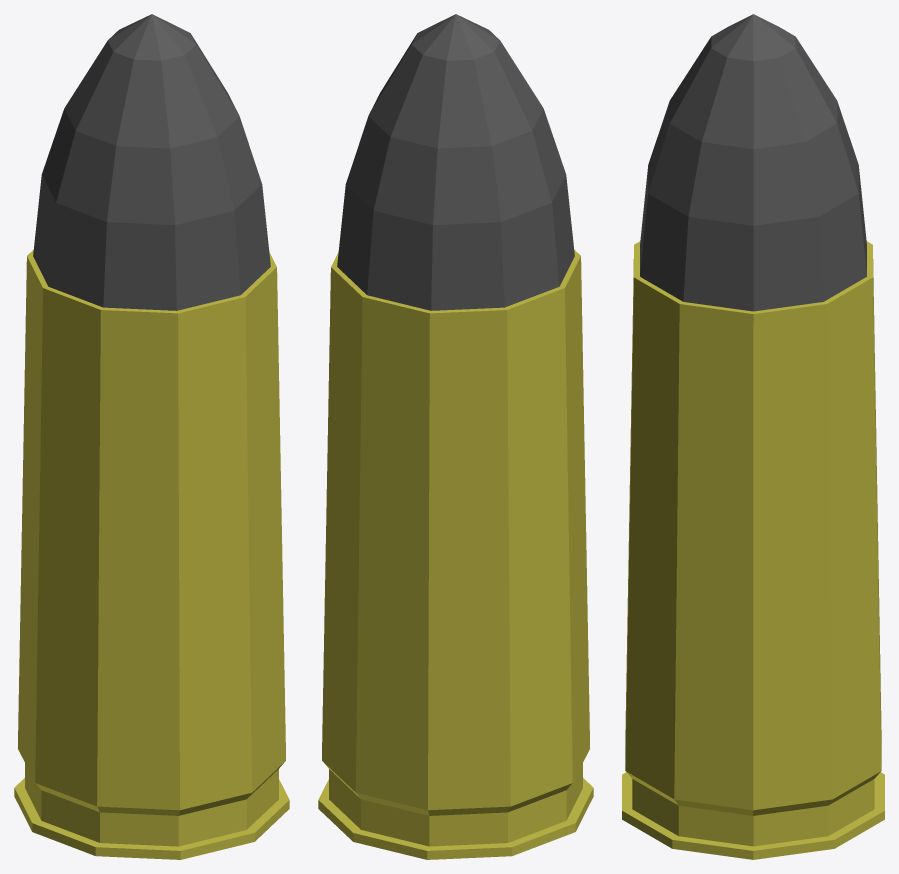
Rendered from Bullet.fbx.
3 views of the same model, side by side, from view 1: azimuth 30°, elevation 25°; view 2: azimuth 150°, elevation 25°; view 3: azimuth 270°, elevation 25° (orthographic).
Parts seen in each view (by area): view 1: Bullet; view 2: Bullet; view 3: Bullet.
Boxes of the visible parts, left/top/right/bottom form: Bullet: left=14, top=14, right=289, bottom=859; Bullet: left=318, top=14, right=593, bottom=859; Bullet: left=622, top=14, right=884, bottom=859.
Size of the model in its own units: 0.9134 by 2.87 by 0.8687.
